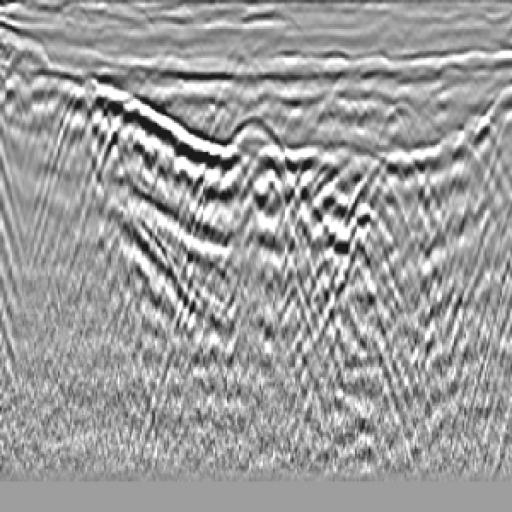metalic: (175, 94, 330, 320)
